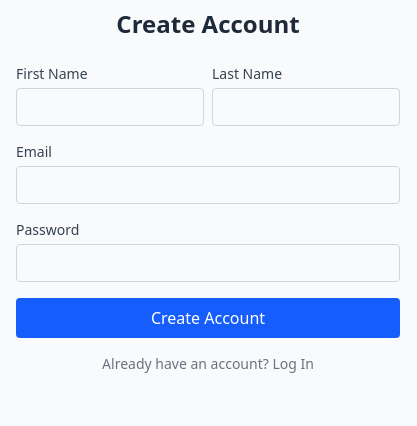
Test: Register page › shows error on 409 duplicate email
The image size is (417, 426).
In the field with test id "first-name-input": (110, 107) top-left (16, 88), bottom-right (204, 126), type "Jane"
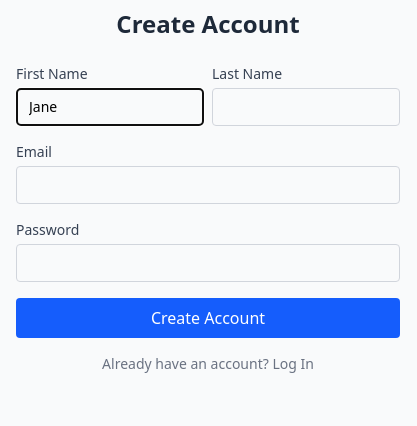
In the field with test id "last-name-input": (306, 107) top-left (212, 88), bottom-right (400, 126), type "Doe"
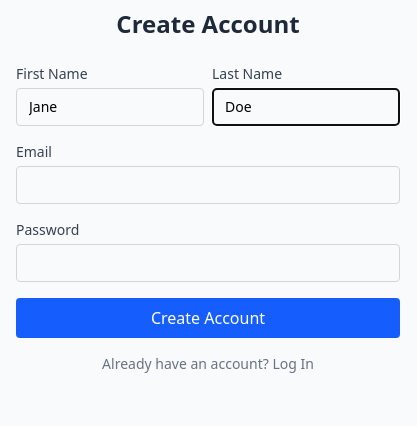
In the field with test id "email-input": (208, 185) top-left (16, 166), bottom-right (400, 204), type "dupe@test.com"
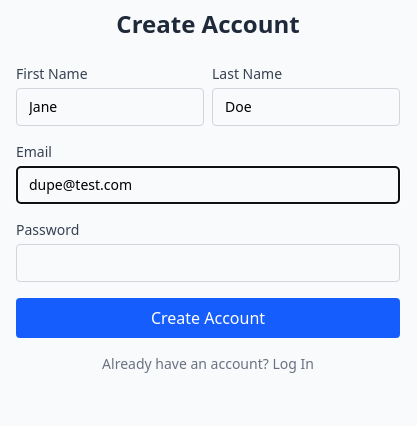
In the password field with test id "password-input": (208, 263) top-left (16, 244), bottom-right (400, 282), type "password123"
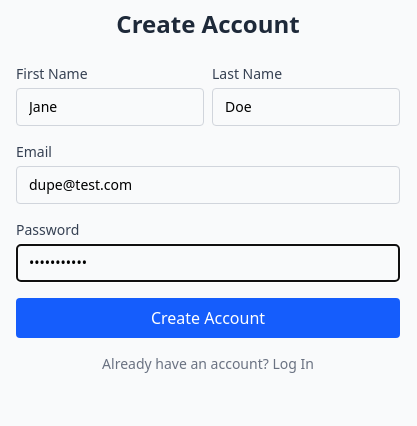
Submit the form with test id "register-form", box top-left (16, 64), bottom-right (400, 338)
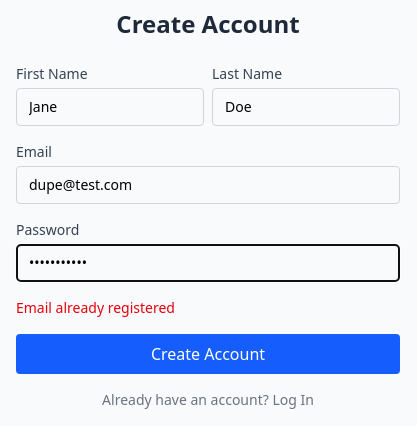
expect the text with test id "register-error" reads "Email already registered": met, box top-left (16, 298), bottom-right (175, 317)
